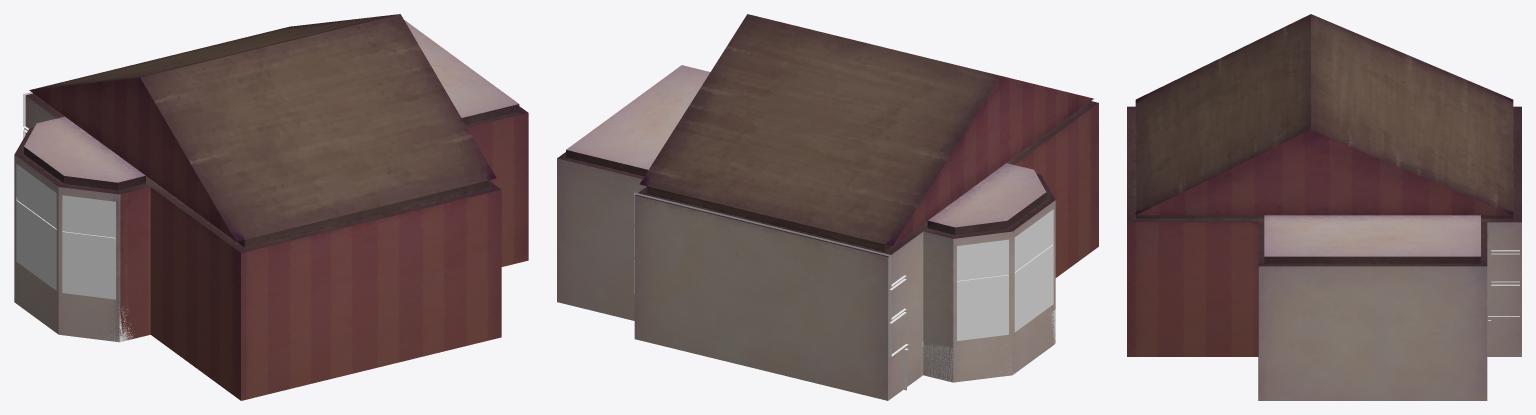
Rendered from FinalRoom.fbx.
3 renders of one model, left to right at view 1: azimuth 30°, elevation 25°; view 2: azimuth 150°, elevation 25°; view 3: azimuth 270°, elevation 25°, orthographic. The views are drawn at different scales.
Parts seen in each view (by area): view 1: Walls.001, Window_Bay_windows; view 2: Walls.001, Window_Bay_windows, shelves, WindowBay_seat; view 3: Walls.001.
Part boxes in pixels (left/top/right/bottom): Walls.001: left=14, top=14, right=528, bottom=400; Window_Bay_windows: left=16, top=164, right=115, bottom=299; Walls.001: left=557, top=14, right=1098, bottom=400; Window_Bay_windows: left=957, top=209, right=1053, bottom=340; shelves: left=634, top=192, right=908, bottom=390; WindowBay_seat: left=922, top=309, right=1055, bottom=381; Walls.001: left=1127, top=14, right=1521, bottom=400.
Bounding box in the file's own units: 2598 × 1451 × 2277.
